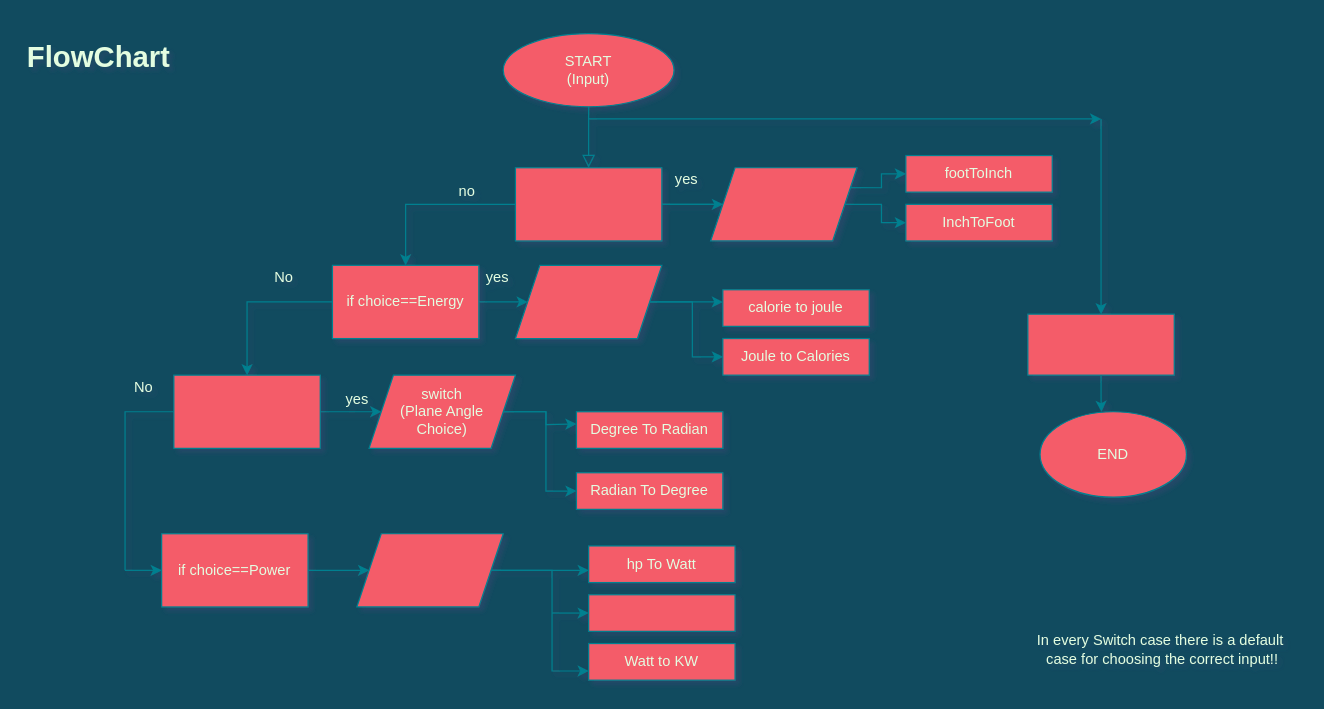
This 1324x709 diagram has some shape labels left out. The box of each missing label's shape, as (x1, y1, x2, y2) in pixels:
else (Unrecognized input): (1027, 313, 1174, 375)
if choice ==Plane Angle: (173, 374, 320, 448)
if choice==Height: (514, 167, 662, 241)
switch (Energy choice): (514, 264, 662, 339)
switch (Height Choice): (709, 167, 857, 241)
switch (Power Choice): (356, 533, 503, 607)
Watt to hp: (587, 594, 735, 631)
